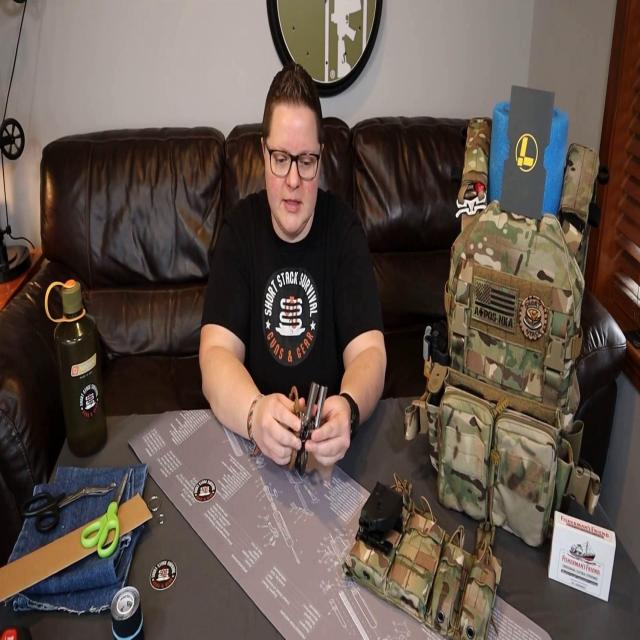scissor: (19, 478, 116, 534), (80, 471, 128, 559), (296, 384, 328, 477), (288, 382, 319, 470)
